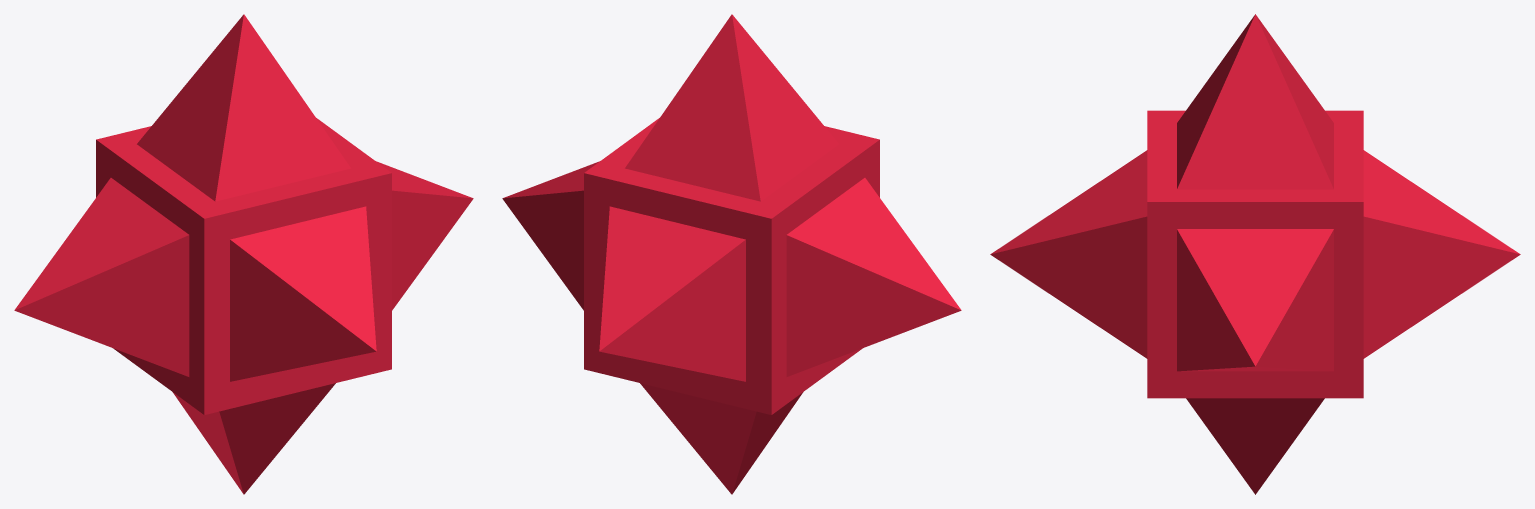
File: obstacle_old.fbx
The picture shows the model from 3 angles, left to right: view 1: azimuth 30°, elevation 25°; view 2: azimuth 150°, elevation 25°; view 3: azimuth 270°, elevation 25°; orthographic projection.
Parts seen in each view (by area): view 1: cube, pyramid_2, pyramid, pyramid_5, pyramid_3, pyramid_1; view 2: cube, pyramid_2, pyramid, pyramid_4, pyramid_3, pyramid_1; view 3: cube, pyramid_1, pyramid, pyramid_4, pyramid_5, pyramid_3.
Boxes of the visible parts, box(x1,y1,x2,y2) form: cube: box(96, 118, 391, 414); pyramid_2: box(14, 178, 189, 376); pyramid: box(137, 14, 350, 201); pyramid_5: box(230, 206, 376, 381); pyramid_3: box(172, 383, 335, 494); pyramid_1: box(376, 161, 473, 310); cube: box(584, 118, 879, 414); pyramid_2: box(786, 178, 961, 376); pyramid: box(625, 14, 838, 201); pyramid_4: box(599, 206, 745, 381); pyramid_3: box(640, 383, 803, 494); pyramid_1: box(502, 161, 599, 310); cube: box(1147, 110, 1363, 398); pyramid_1: box(1177, 229, 1333, 371); pyramid: box(1177, 14, 1333, 189); pyramid_4: box(1363, 150, 1520, 358); pyramid_5: box(990, 150, 1147, 358); pyramid_3: box(1186, 398, 1324, 494).
Bounding box in the file's own units: 122 × 123 × 122.
Materials: 1 (1 with a texture image).
